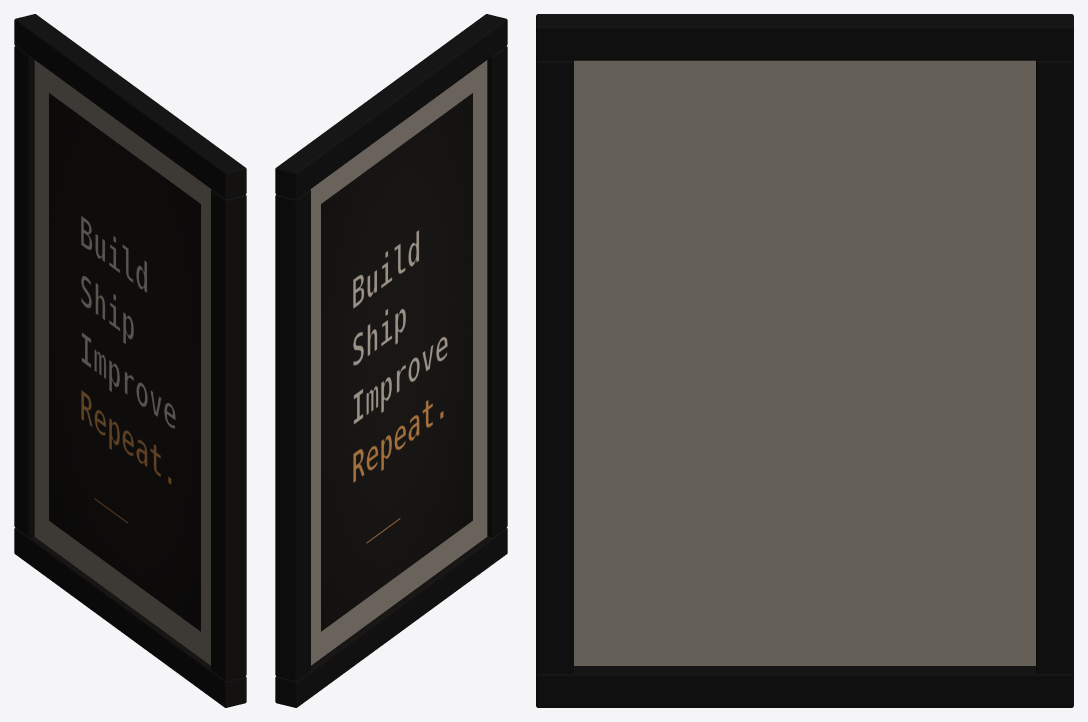
File: wall-poster.glb
The picture shows the model from 3 angles, left to right: view 1: azimuth 30°, elevation 25°; view 2: azimuth 150°, elevation 25°; view 3: azimuth 270°, elevation 25°; orthographic projection. The views are drawn at different scales.
Visible parts, largest first — view 1: poster_print, poster_frame, poster_mat; view 2: poster_print, poster_frame, poster_mat; view 3: poster_mat, poster_frame.
Boxes of the visible parts, bbox=[...] form: poster_print: bbox=[49, 93, 200, 631]; poster_frame: bbox=[14, 14, 246, 707]; poster_mat: bbox=[34, 60, 211, 665]; poster_print: bbox=[321, 93, 472, 631]; poster_frame: bbox=[275, 14, 507, 707]; poster_mat: bbox=[310, 60, 487, 665]; poster_mat: bbox=[574, 60, 1035, 665]; poster_frame: bbox=[536, 14, 1073, 707].
Bounding box in the file's own units: 0.03 × 0.695 × 0.497.
Materials: 4 (1 with a texture image).
